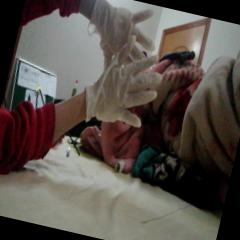gloved: (82, 26, 170, 132), (77, 0, 165, 83)
